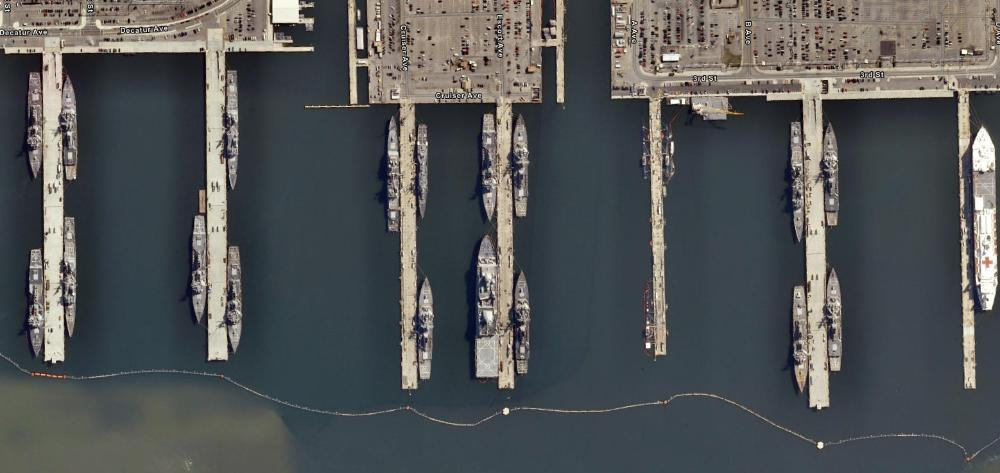cruiser: (414, 122, 433, 222)
destroyer: (381, 115, 405, 234), (790, 122, 810, 242), (62, 215, 79, 339), (225, 67, 242, 189)
fregate: (824, 265, 849, 374), (514, 265, 536, 382), (224, 246, 248, 353), (414, 276, 437, 387), (821, 122, 844, 231), (61, 76, 83, 185), (510, 111, 531, 219), (25, 71, 44, 180), (188, 214, 207, 321), (481, 111, 499, 223), (792, 285, 810, 396), (29, 248, 46, 359)
submarine: (661, 123, 679, 189), (640, 282, 654, 352), (639, 123, 650, 177)
supply: (475, 234, 501, 383)
